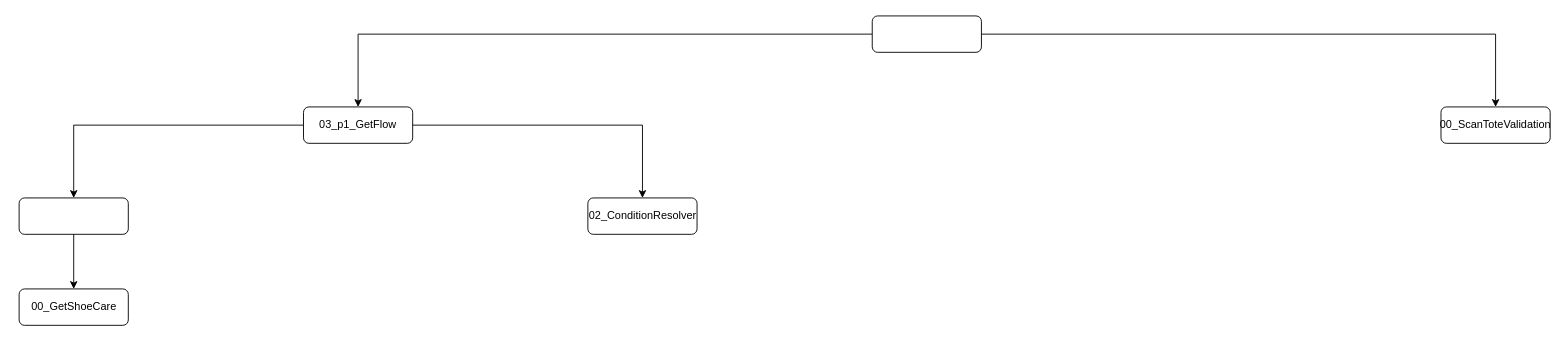
Some shapes in this 1566 by 341 pixel diagram are drawn without their labels. Each missing label, with the centre of its shape:
04_p1_GetComponents: the point at 73,215
Copyof 02_p1_GetTote: the point at 926,33
